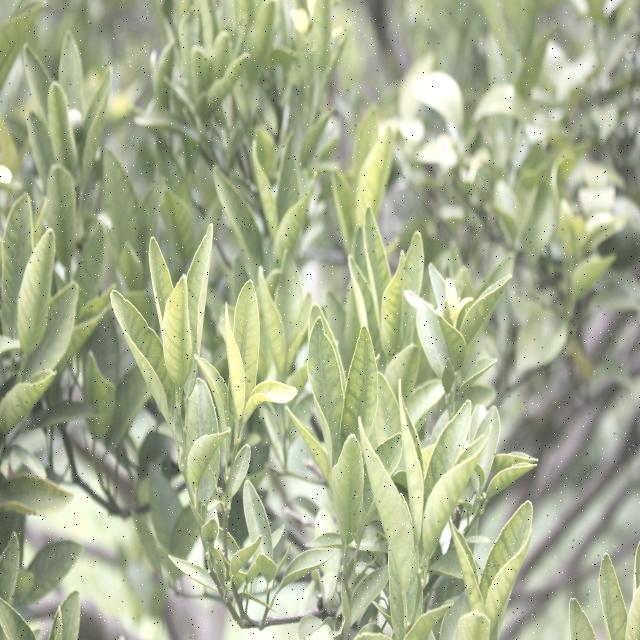greening: (484, 498, 538, 613), (304, 322, 344, 432), (425, 401, 472, 484), (349, 323, 380, 439), (162, 274, 191, 372), (236, 282, 259, 384), (364, 215, 388, 294)
